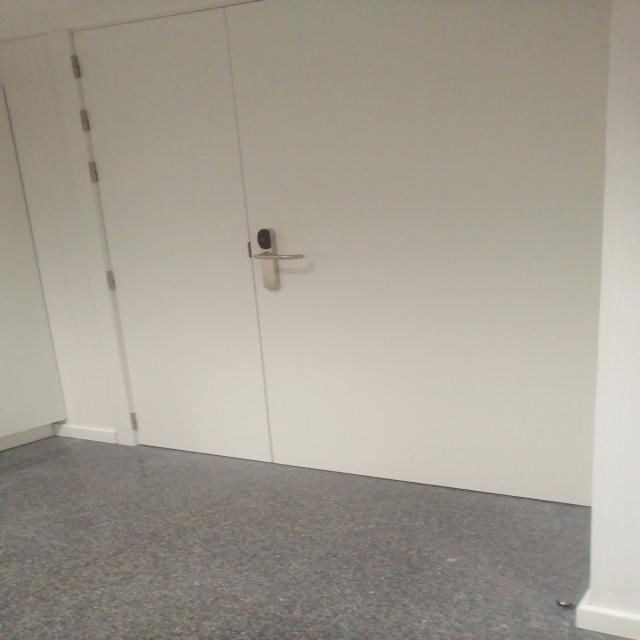door_handle: (247, 251, 307, 261)
